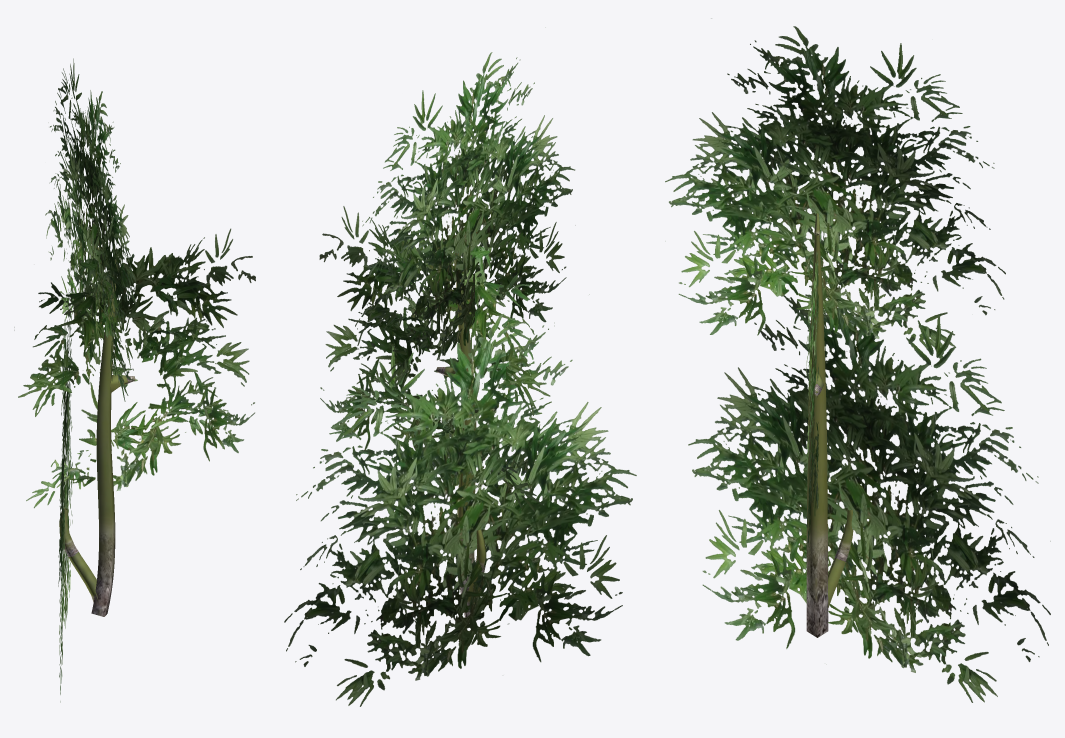
The model's file is bamboo.glb.
3 renders of one model, left to right at view 1: azimuth 30°, elevation 25°; view 2: azimuth 150°, elevation 25°; view 3: azimuth 270°, elevation 25°, orthographic. The views are drawn at different scales.
Parts seen in each view (by area): view 1: Untitled; view 2: Untitled; view 3: Untitled.
Part boxes in pixels (x1,y1,x2,y2): Untitled: (14, 58, 255, 702); Untitled: (284, 52, 636, 706); Untitled: (665, 18, 1050, 702).
Bounding box in the file's own units: 4.52 × 9.98 × 5.36.
3 materials, 3 textured.
